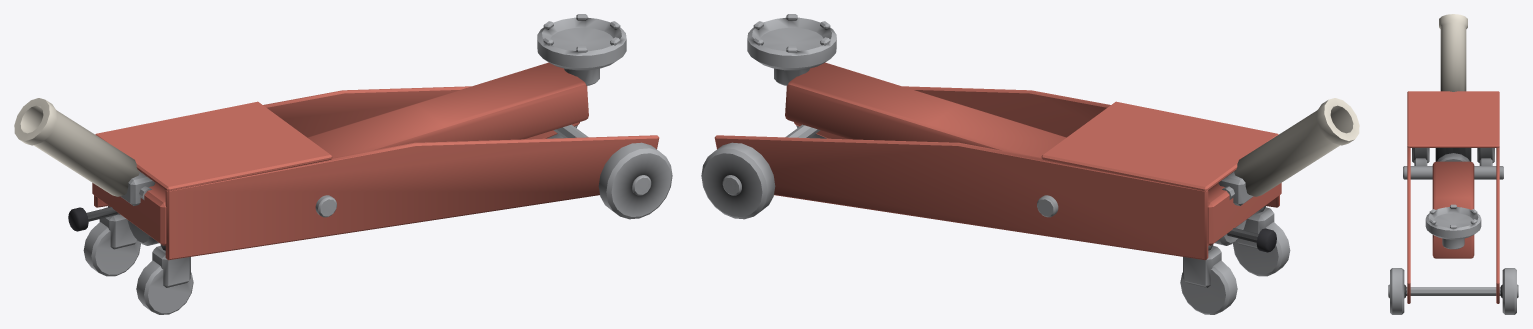
Rendered from junk_jack.glb.
The picture shows the model from 3 angles, left to right: view 1: azimuth 30°, elevation 25°; view 2: azimuth 150°, elevation 25°; view 3: azimuth 270°, elevation 25°; orthographic projection. The views are drawn at different scales.
Visible parts, largest first — view 1: PART; view 2: PART; view 3: PART.
Part boxes in pixels (x1,y1,x2,y2): PART: (14,14,672,314); PART: (701,14,1359,314); PART: (1388,14,1518,314).
Size of the model in its own units: 0.7298 by 0.2488 by 0.22.
